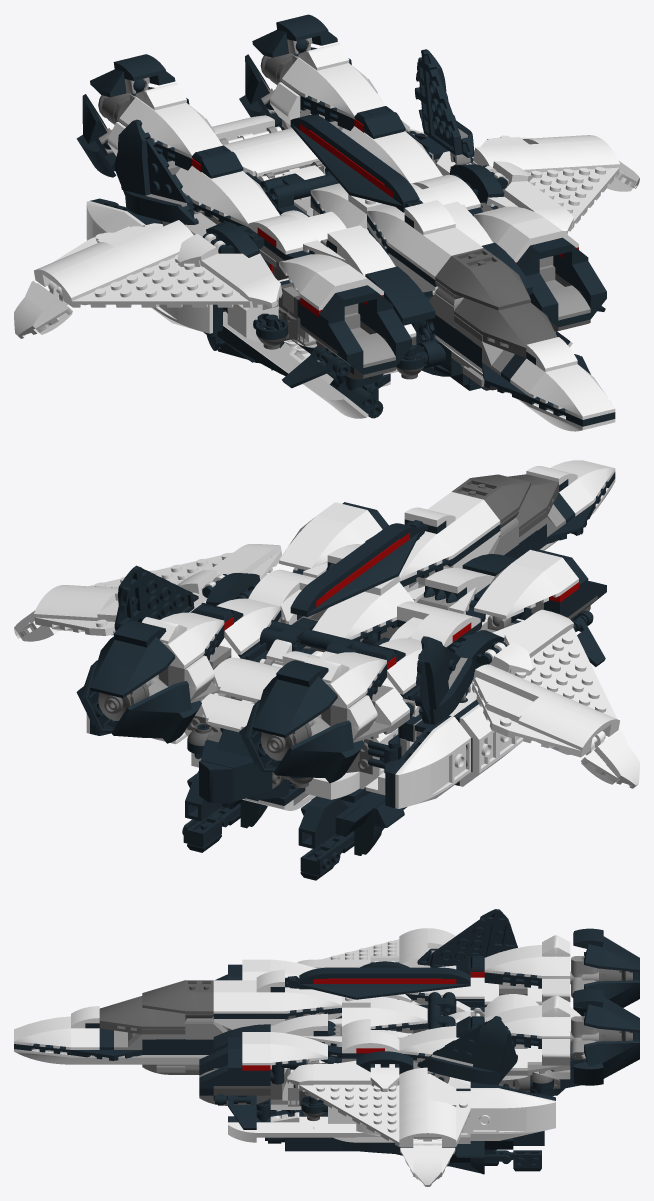
File: vf-22-sturmvogel-fighter.dae
3 renders of one model, top to bottom at view 1: azimuth 30°, elevation 25°; view 2: azimuth 150°, elevation 25°; view 3: azimuth 270°, elevation 25°, orthographic. The views are drawn at different scales.
Bounding box in the file's own units: 764 × 878 × 285.
